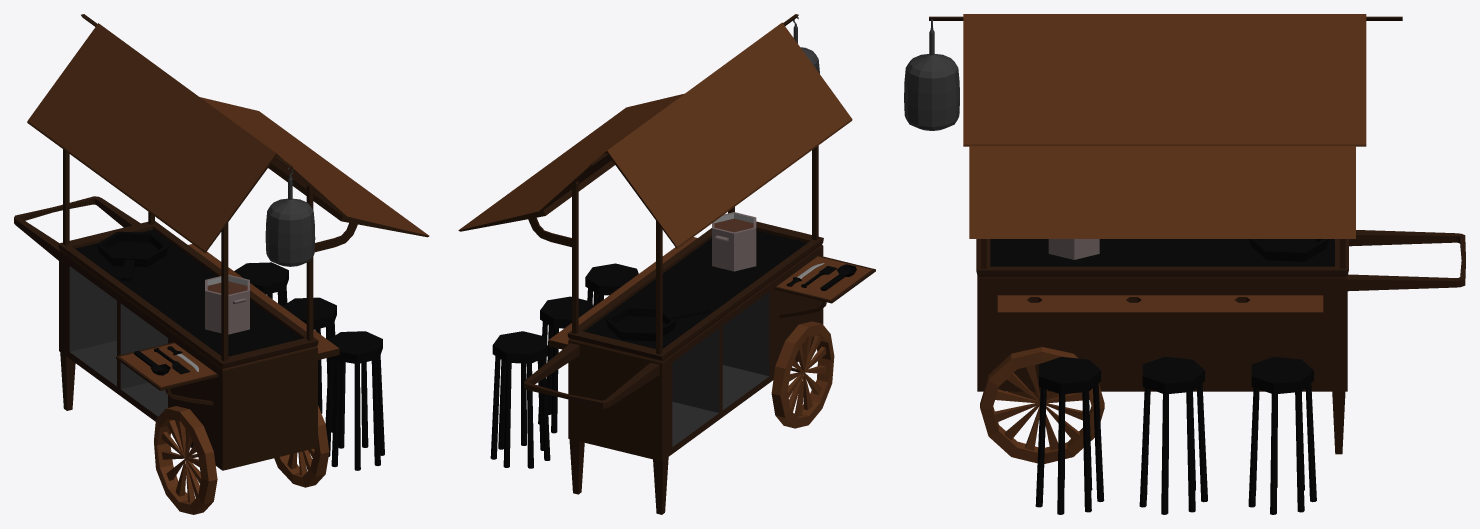
File: ramen stand done.fbx
3 views of the same model, side by side, from view 1: azimuth 30°, elevation 25°; view 2: azimuth 150°, elevation 25°; view 3: azimuth 270°, elevation 25° (orthographic). The views are drawn at different scales.
Parts seen in each view (by area): view 1: Cart, barstool, lightShade, Frying Pan, Pot Of Stew, barstool.001, barstool.002; view 2: Cart, barstool.002, Pot Of Stew, Frying Pan, barstool.001, barstool; view 3: Cart, barstool.001, barstool.002, barstool, lightShade, Frying Pan, Pot Of Stew.
Part boxes in pixels (x1,y1,x2,y2): Cart: (14,14,429,514); barstool: (325,331,384,470); lightShade: (265,167,315,266); Frying Pan: (97,231,168,280); Pot Of Stew: (205,274,249,334); barstool.001: (282,297,336,432); barstool.002: (234,262,288,305); Cart: (458,14,875,514); barstool.002: (490,331,550,468); Pot Of Stew: (712,212,756,271); Frying Pan: (605,306,709,341); barstool.001: (538,296,593,433); barstool: (585,263,638,306); Cart: (929,14,1465,463); barstool.001: (1139,357,1207,514); barstool.002: (1248,357,1316,514); barstool: (1035,357,1104,514); lightShade: (904,19,959,130); Frying Pan: (1249,239,1329,261); Pot Of Stew: (1048,239,1099,259).
Size of the model in its own units: 549 by 740 by 902.
